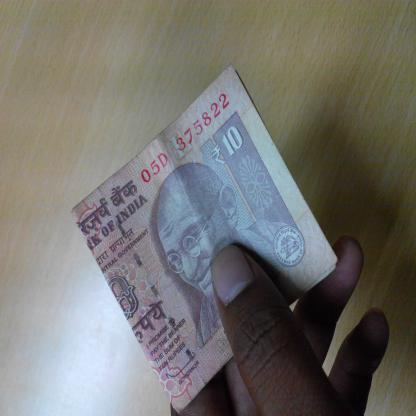Old10Front: (70, 61, 339, 415)
